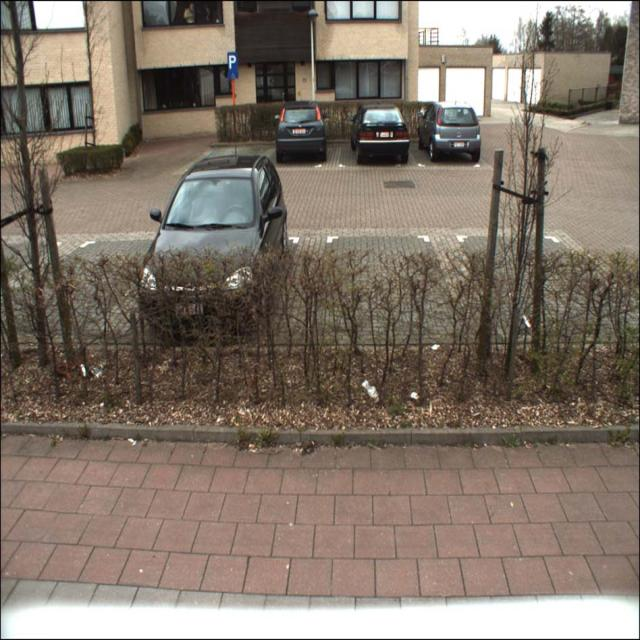park: (227, 52, 236, 71)
